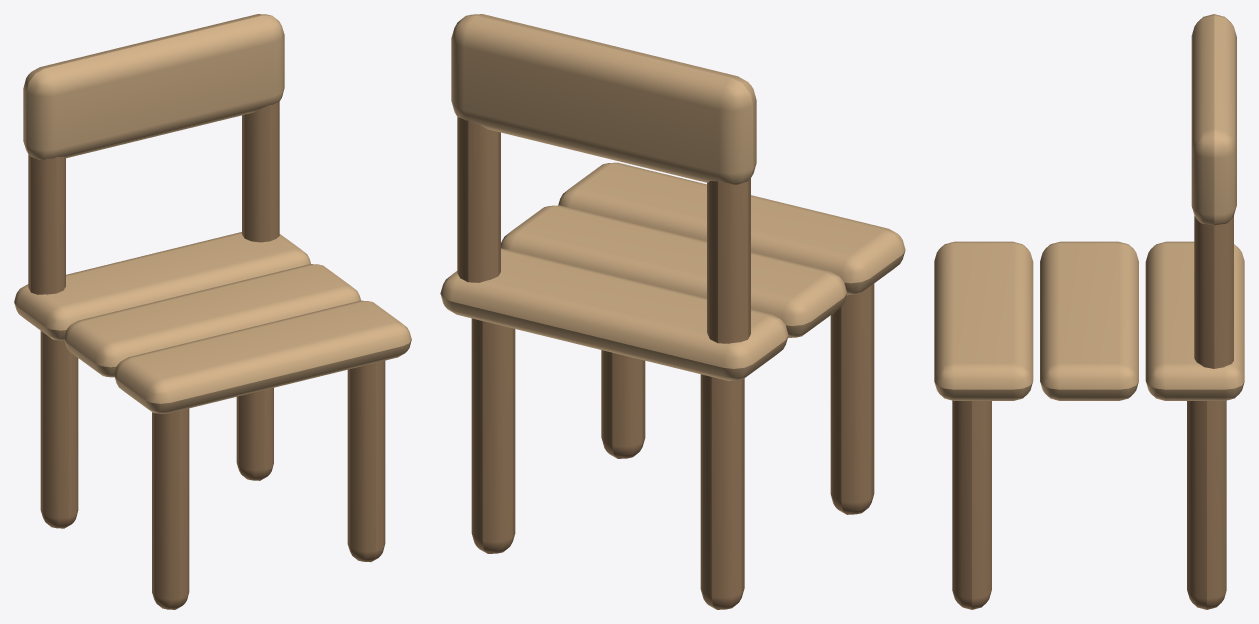
File: chair.glb
The picture shows the model from 3 angles, left to right: view 1: azimuth 30°, elevation 25°; view 2: azimuth 150°, elevation 25°; view 3: azimuth 270°, elevation 25°; orthographic projection. The views are drawn at different scales.
Parts seen in each view (by area): view 1: Backrest, Plank, Plank.001, Plank.002, Leg.002, Leg, Leg.001, Back upright, Back upright.001, Leg.003; view 2: Backrest, Plank.002, Plank, Plank.001, Leg.001, Leg.003, Leg, Back upright, Back upright.001, Leg.002; view 3: Plank, Plank.001, Plank.002, Backrest, Leg.002, Leg.003, Back upright.001.
Part boxes in pixels (<box>): Backrest: <box>23,14,284,160</box>; Plank: <box>114,300,411,413</box>; Plank.001: <box>64,264,360,377</box>; Plank.002: <box>14,232,310,340</box>; Leg.002: <box>347,360,385,562</box>; Leg: <box>152,408,189,609</box>; Leg.001: <box>40,331,78,528</box>; Back upright: <box>28,155,65,294</box>; Back upright.001: <box>242,102,279,242</box>; Leg.003: <box>236,388,273,480</box>; Backrest: <box>451,14,756,184</box>; Plank.002: <box>440,248,788,380</box>; Plank: <box>558,162,905,295</box>; Plank.001: <box>501,205,846,337</box>; Leg.001: <box>700,374,744,609</box>; Leg.003: <box>471,318,515,553</box>; Leg: <box>830,284,874,514</box>; Back upright: <box>707,178,750,343</box>; Back upright.001: <box>457,117,500,282</box>; Leg.002: <box>601,350,645,458</box>; Plank: <box>934,241,1033,400</box>; Plank.001: <box>1040,241,1138,400</box>; Plank.002: <box>1145,241,1244,400</box>; Backrest: <box>1191,14,1236,225</box>; Leg.002: <box>952,400,991,609</box>; Leg.003: <box>1187,400,1226,609</box>; Back upright.001: <box>1194,216,1233,368</box>.
Bounding box in the file's own units: 0.57 × 0.945 × 0.548.
